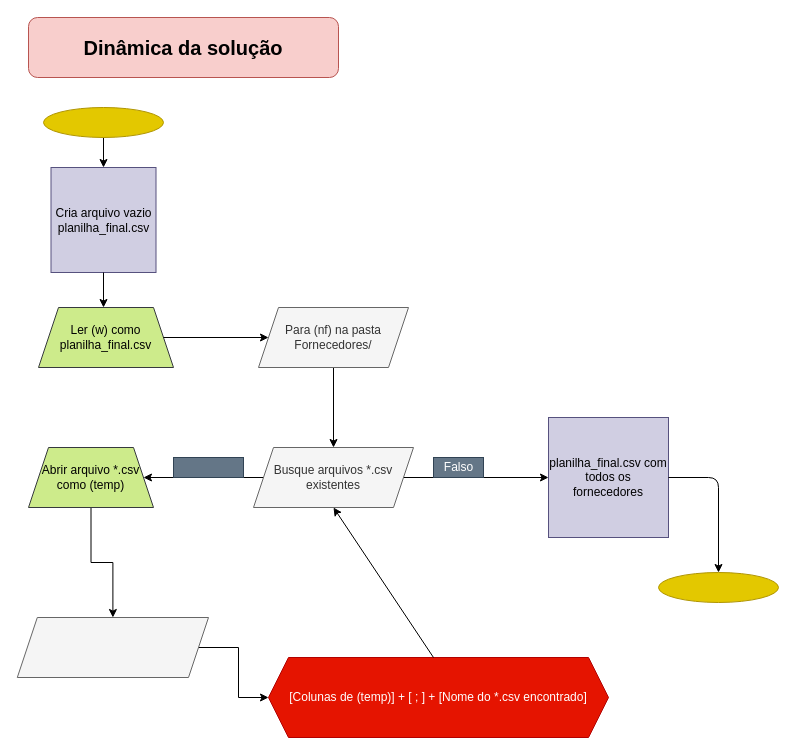
This 797x755 diagram has some shape labels left out. Each missing label, with the box of its shape:
FIM: (658, 572, 778, 602)
INICIO: (42, 106, 164, 138)
Para cada coluna em (temp) adicione em (w): (16, 616, 208, 678)
Verdadeiro: (172, 456, 244, 478)
